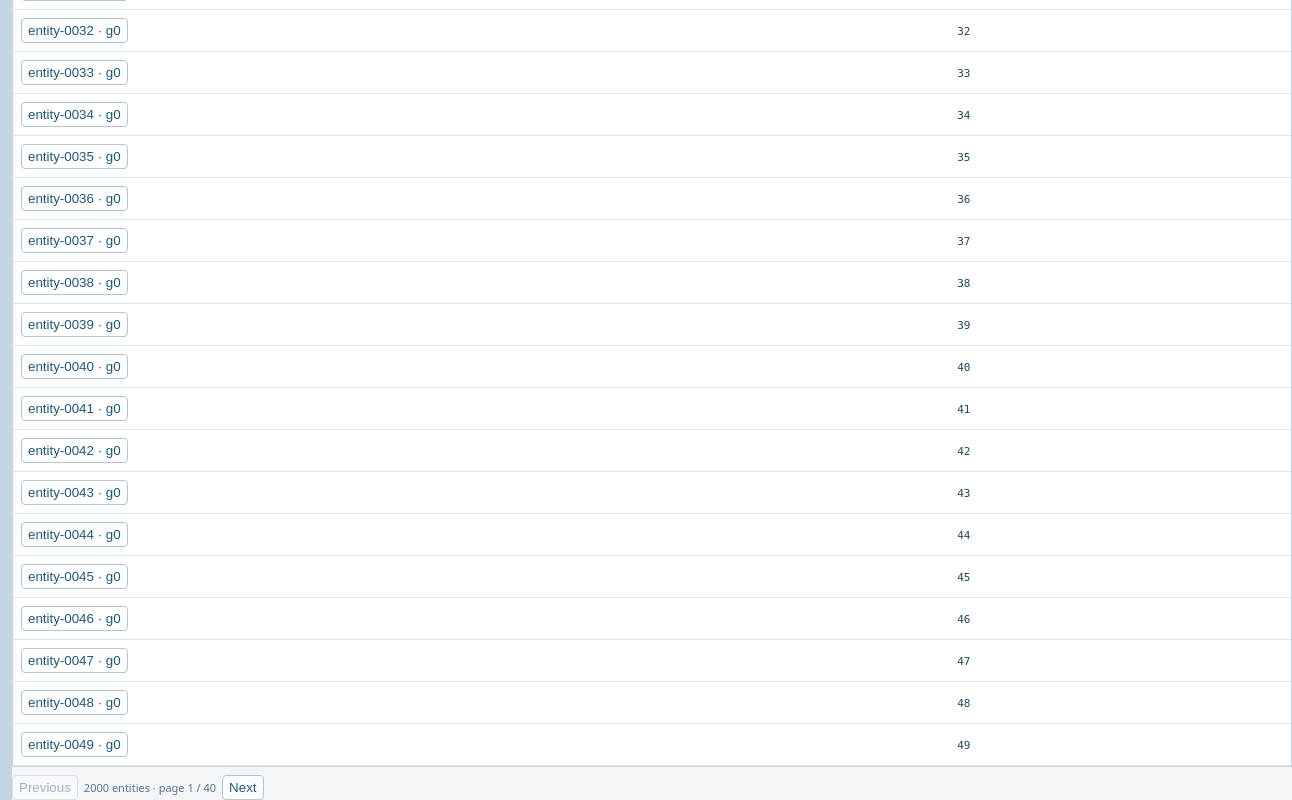
Scenario: exact nonspatial replay › lays out 2000 distinct entity nodes and keeps 5000 recorded edges with bounded table DOM
(page scrolled)
Click the button with aria-label "Next state page". click: point(243, 788)
box: [222,775,264,799]
(page scrolled)
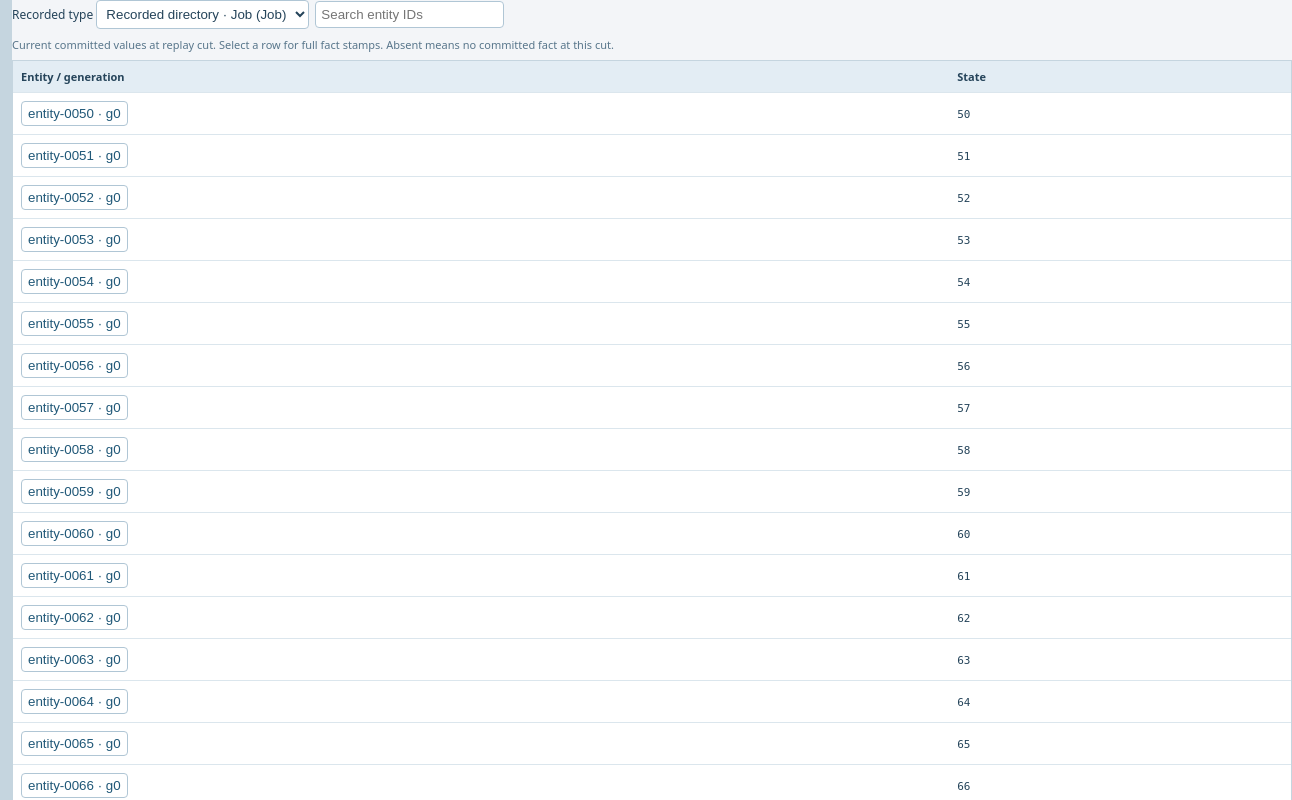
Expected: the button "entity-0050 · g0" is shown, [21,101,128,126]
